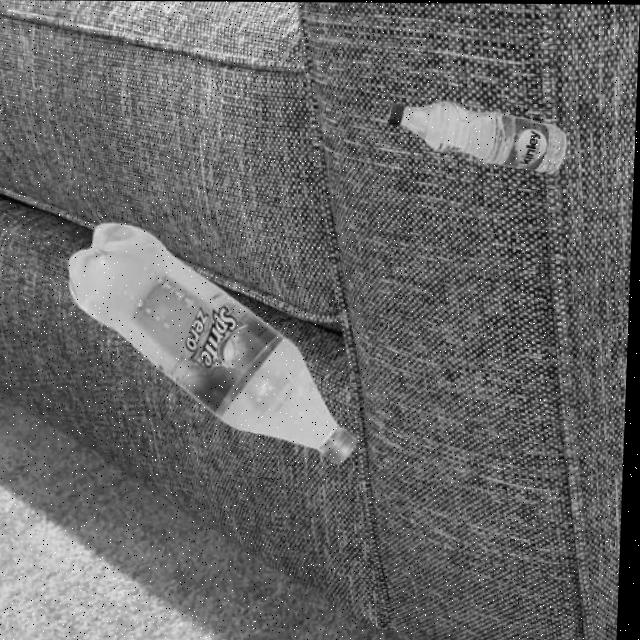bottle: (62, 219, 368, 465), (384, 97, 571, 174)
